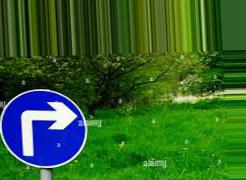right: (1, 87, 87, 168)
